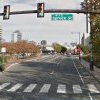crosswalk: (0, 82, 99, 93)
